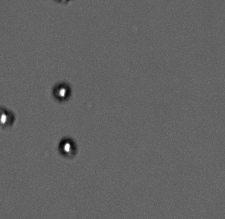Living Cell: (57, 135, 78, 159), (51, 81, 71, 101), (1, 107, 16, 131)
